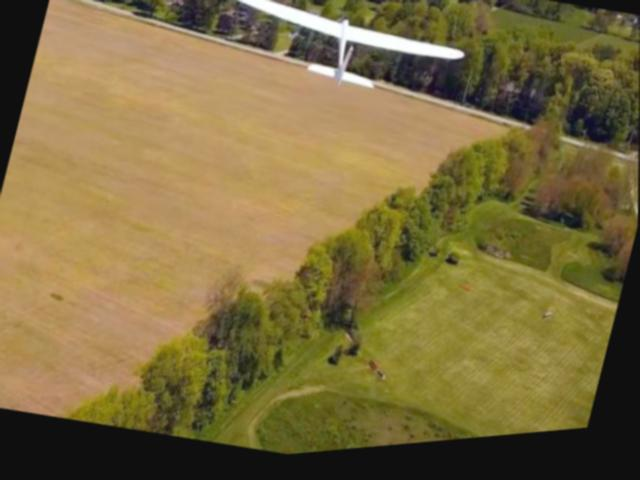iha: (208, 0, 473, 129)
